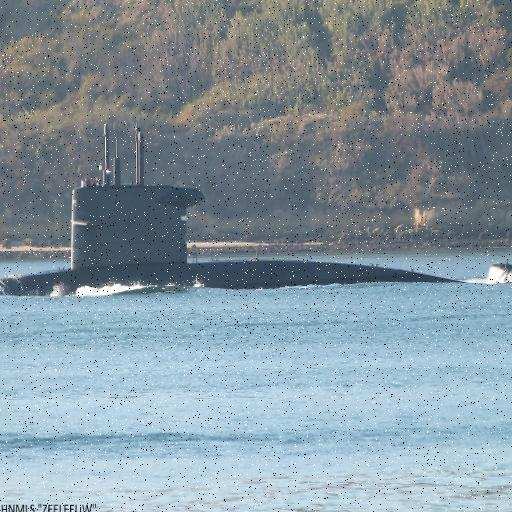submarine: (1, 128, 512, 303)
